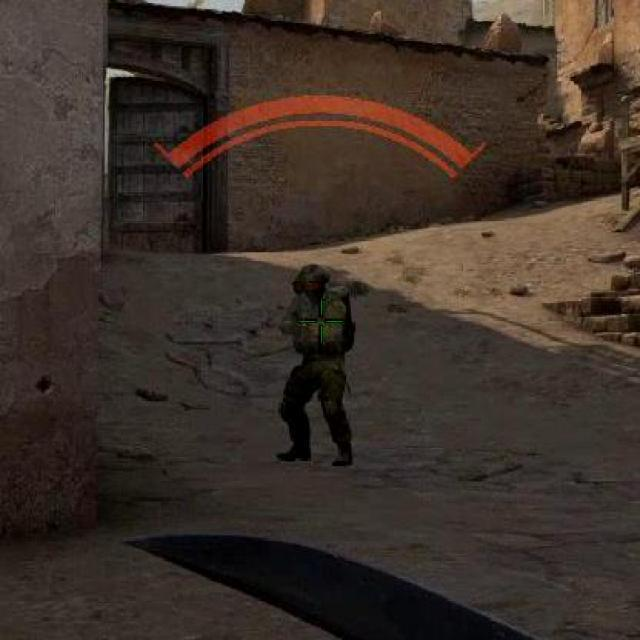CT-Body: (291, 262, 331, 302)
CT-Head: (270, 258, 368, 466)
